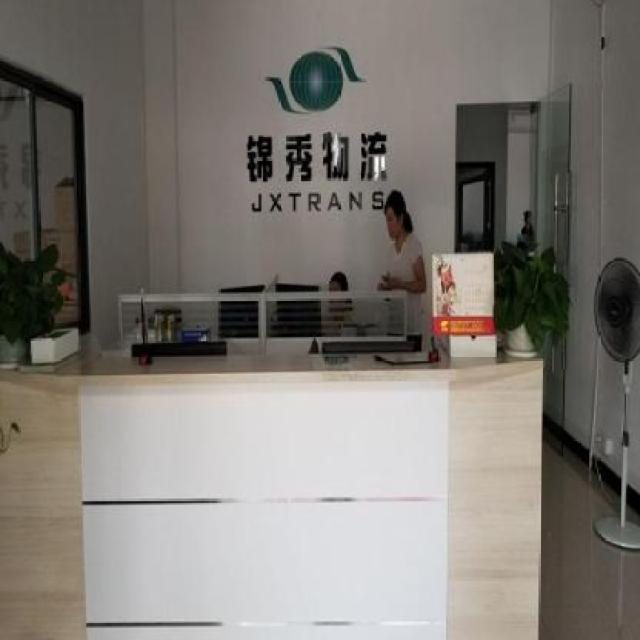frontdesk: (0, 307, 547, 640)
